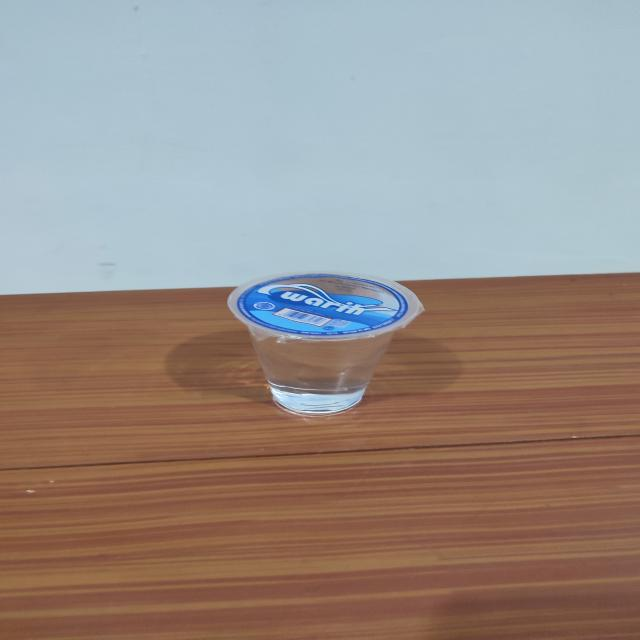air gelas: (224, 269, 424, 420)
